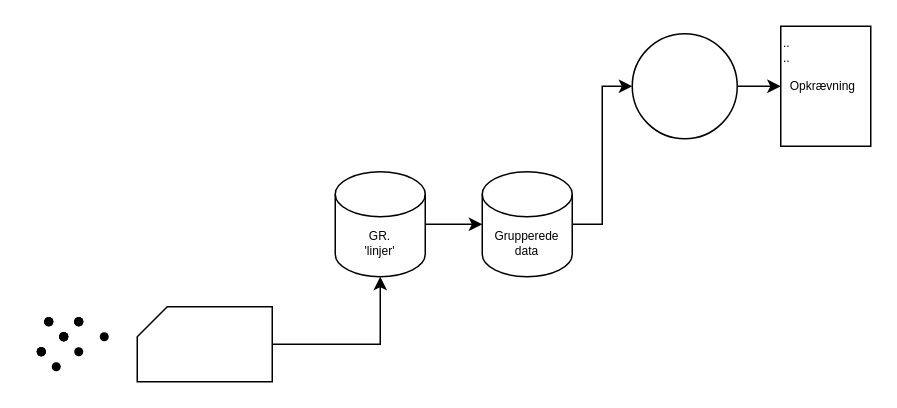
Some shapes in this 897 by 408 pixel diagram are drawn without their labels. Each missing label, with the centre of its shape:
Calc.: the point at 684,85
Kilde 'spredte data': the point at 204,343
